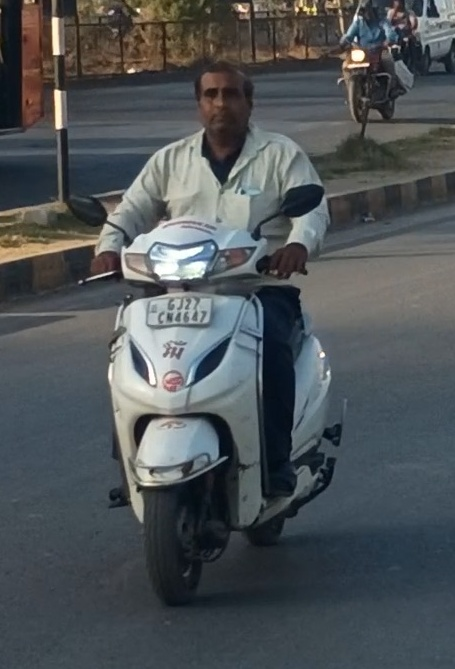BikeWithRider: (62, 52, 356, 613), (323, 0, 418, 134)
NoHelmet: (180, 54, 265, 145)
